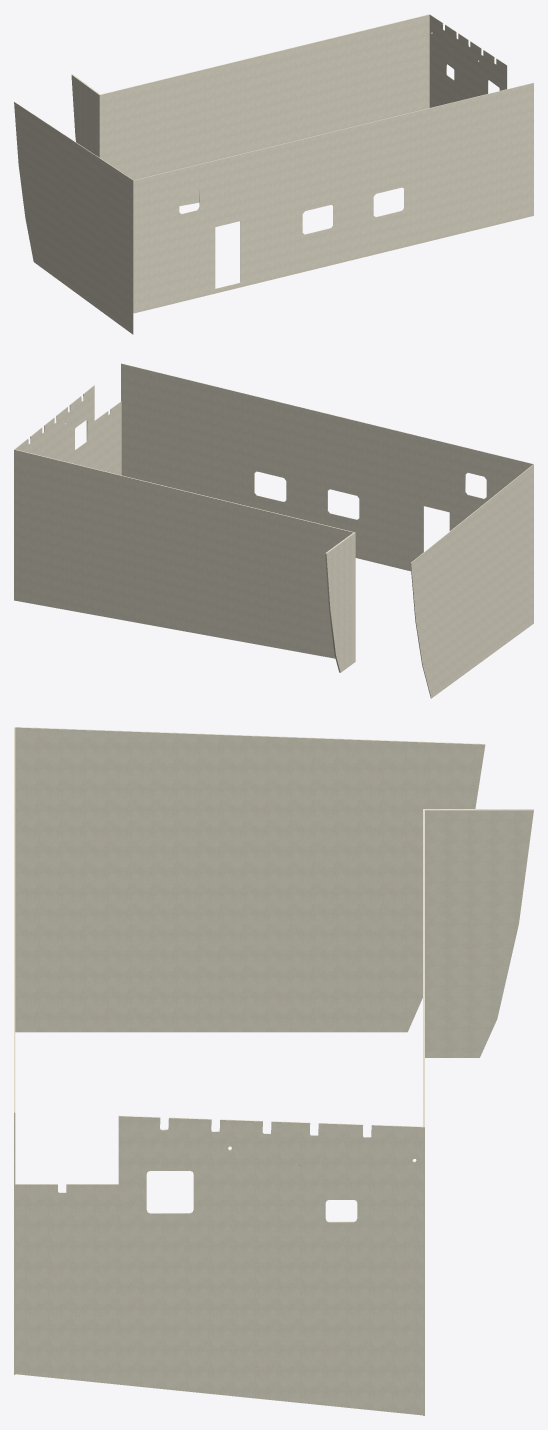
Rendered from ROOM.FBX.
3 views of the same model, one above another, from view 1: azimuth 30°, elevation 25°; view 2: azimuth 150°, elevation 25°; view 3: azimuth 270°, elevation 25° (orthographic). The views are drawn at different scales.
Visible parts, largest first — view 1: Plane012; view 2: Plane012; view 3: Plane012.
Part boxes in pixels (x1=…): Plane012: x1=14, y1=14, x2=533, y2=334; Plane012: x1=14, y1=363, x2=533, y2=698; Plane012: x1=14, y1=727, x2=533, y2=1415.
Size of what is drawn, in the model's own units: 13.61 by 5.01 by 7.76.
